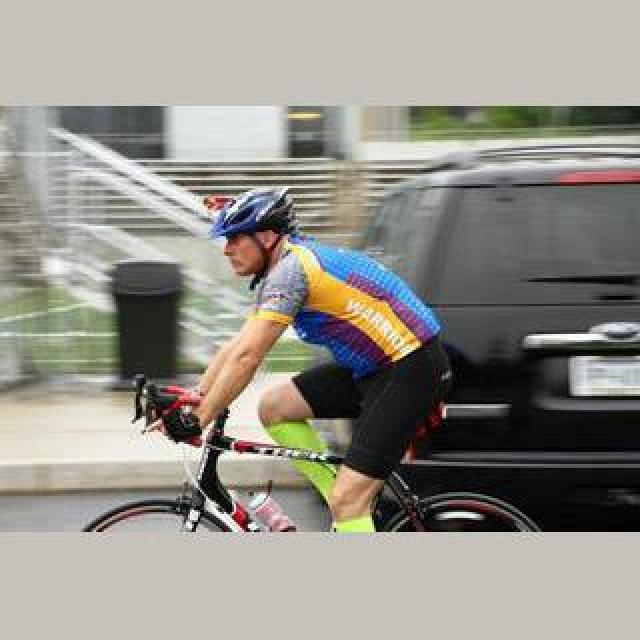Bus-Bike: (364, 160, 638, 516)
MC-Bike: (166, 186, 448, 532)
Person: (90, 394, 550, 530)
